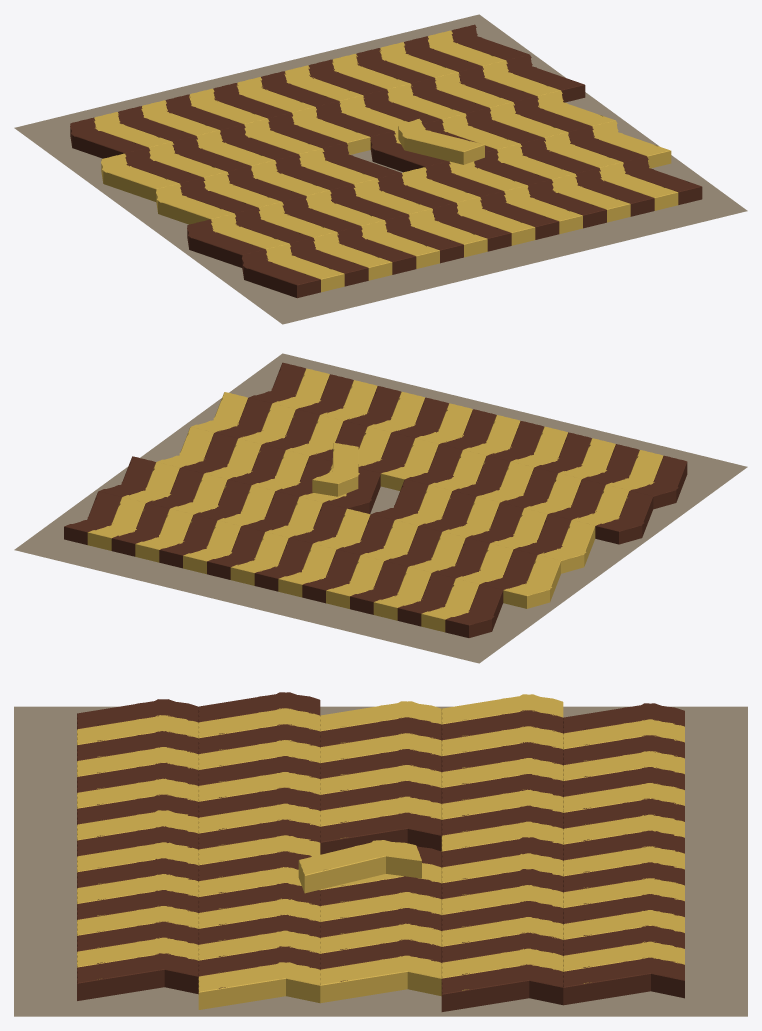
File: terilgan.glb
3 renders of one model, top to bottom at view 1: azimuth 30°, elevation 25°; view 2: azimuth 150°, elevation 25°; view 3: azimuth 270°, elevation 25°, orthographic. The views are drawn at different scales.
Parts seen in each view (by area): view 1: qum, t.043, t.001, t, t.002, t.003, t.006, t.048, t.045, t.050, t.075, t.080 (+74 smaller); view 2: qum, t, t.006, t.002, t.043, t.001, t.003, t.016, t.051, t.081, t.071, t.021 (+75 smaller); view 3: qum, t.043, t.084, t.086, t.080, t.085, t.083, t.038, t.002, t, t.029, t.004 (+75 smaller).
Part boxes in pixels (x1,y1,x2,y2): qum: (14,14,747,324); t.043: (398,118,484,164); t.001: (242,249,320,298); t: (187,219,265,267); t.002: (101,153,179,201); t.003: (156,183,234,224); t.006: (70,117,147,158); t.048: (370,131,447,172); t.045: (456,197,535,245); t.050: (480,191,559,239); t.075: (599,162,678,210); t.080: (623,156,702,204); qum: (14,353,747,663); t: (595,491,653,544); t.006: (445,584,503,637); t.002: (503,555,560,608); t.043: (312,443,359,496); t.001: (630,455,687,509); t.003: (538,520,595,573); t.016: (397,573,455,626); t.051: (230,532,288,585); t.081: (87,497,145,550); t.071: (135,509,192,562); t.021: (373,567,431,620); qum: (14,706,747,1016); t.043: (298,840,421,893); t.084: (198,962,320,1009); t.086: (441,964,563,1011); t.080: (77,953,198,1000); t.085: (563,957,684,1005); t.083: (320,955,441,1003); t.038: (320,812,441,854); t.002: (441,694,563,736); t: (198,692,320,734); t.029: (198,787,320,829); t.004: (198,708,320,750).
Bounding box in the file's own units: 1.66 × 0.092 × 1.66.
